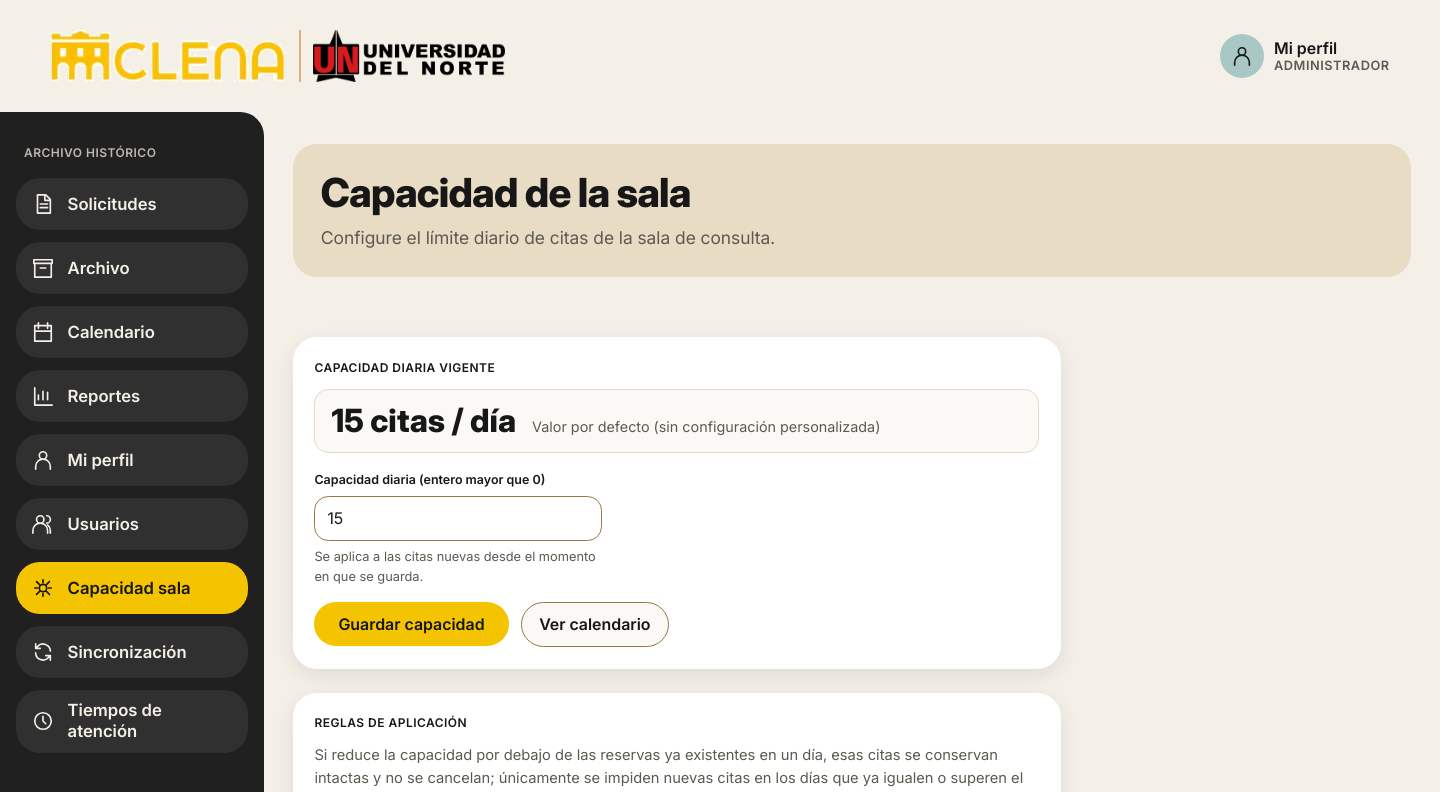
it: RoomCapacityPage › shows the default capacity (15) and lets ADMIN save a new positive integer
Expected: the text "15 citas / día" is shown, [331, 403, 516, 439]
Expected: the text "Valor por defecto (sin configuración personalizada)" is shown, [532, 416, 880, 438]
Replace the text in the number field labelled "Capacidad diaria (entero mayor que 0)" with "24" at (458, 518), box [314, 496, 602, 541]
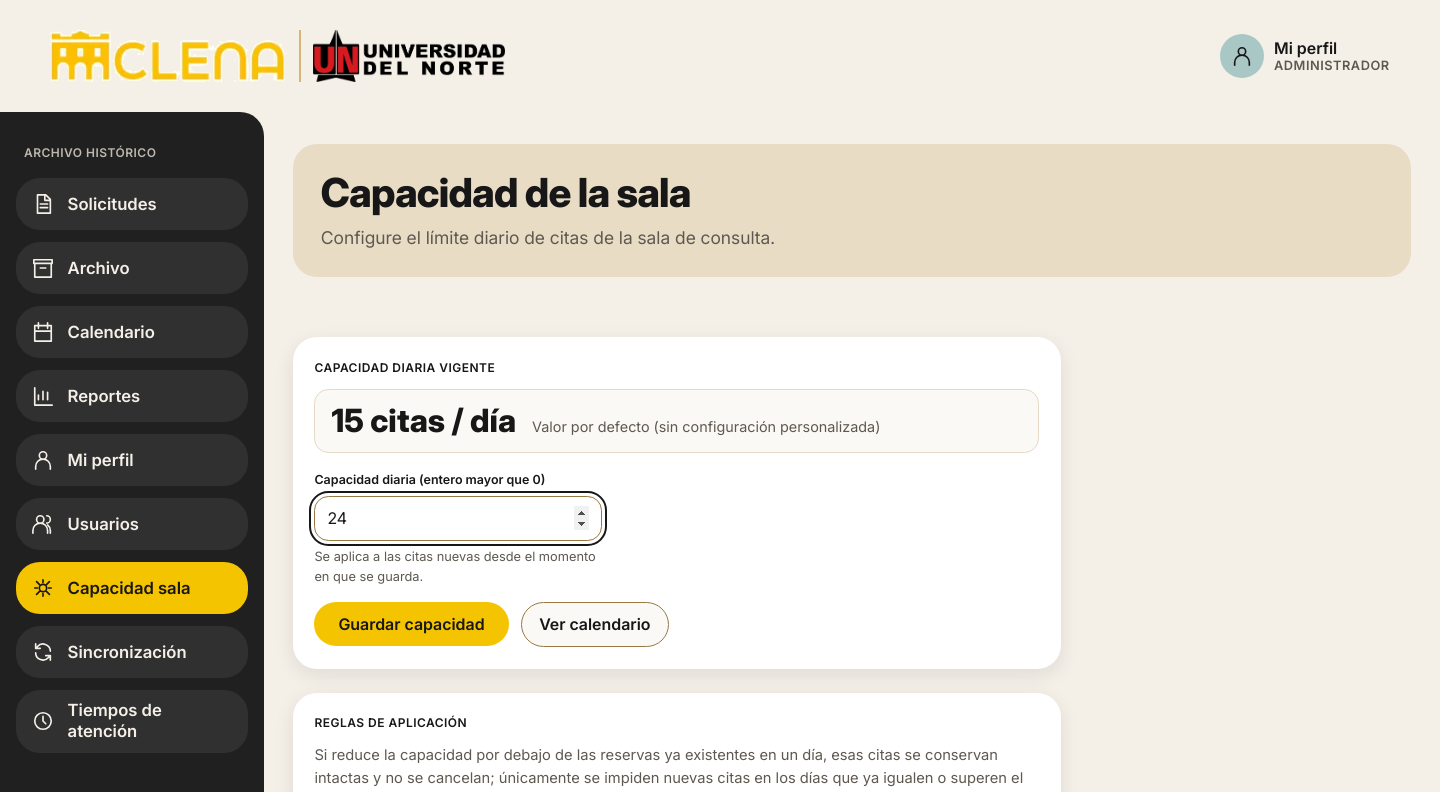
Click the button "Guardar capacidad" at (412, 624), box [314, 602, 509, 646]
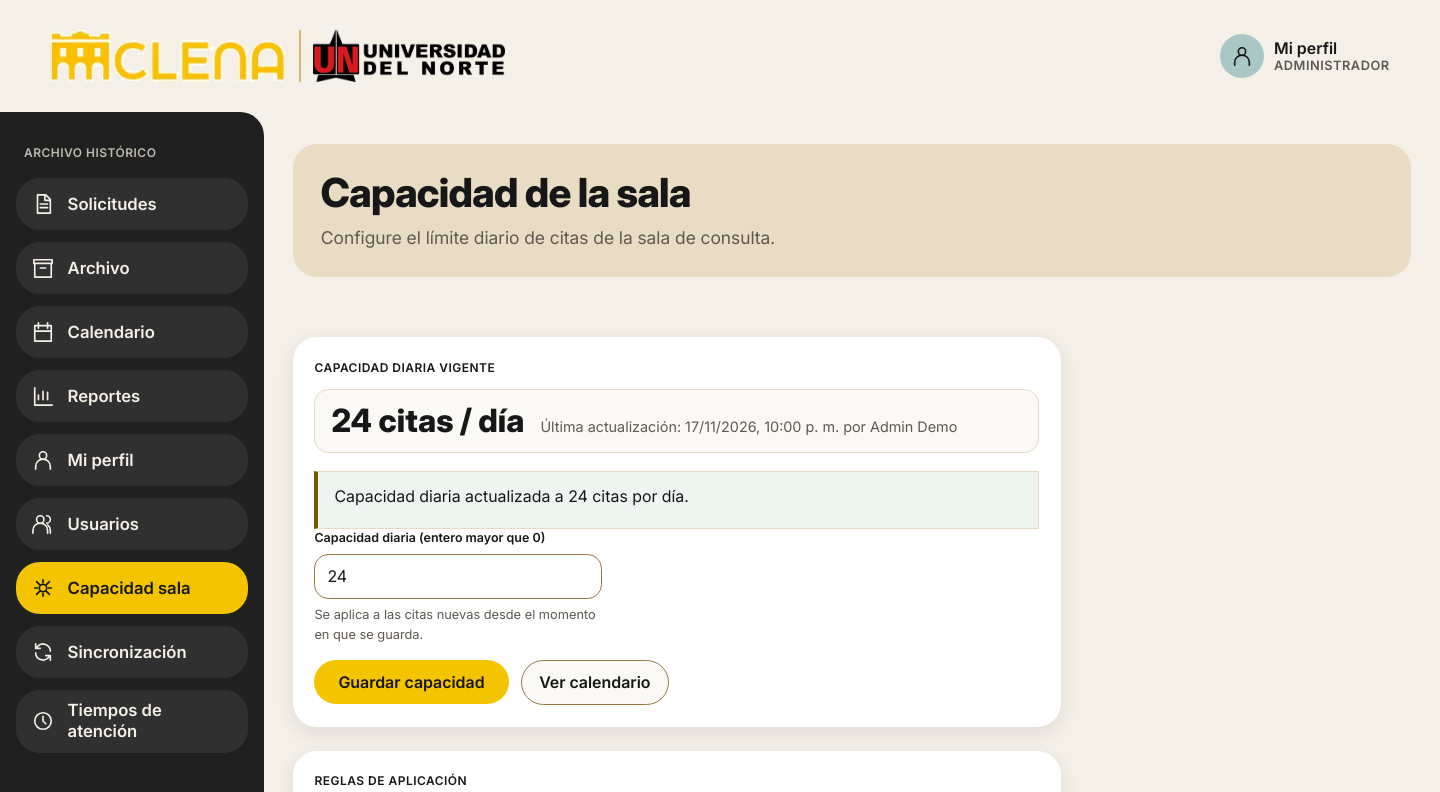
Result: the message reads "Capacidad diaria actualizada a 24 citas por día." at [334, 486, 689, 506]
Result: the text "24 citas / día" is shown at [331, 403, 524, 439]
Result: the text "Última actualización: 17/11/2026, 10:00 p. m. por Admin Demo" is shown at [540, 416, 957, 438]
